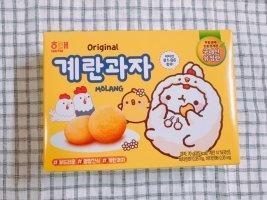snack: (42, 29, 241, 172)
